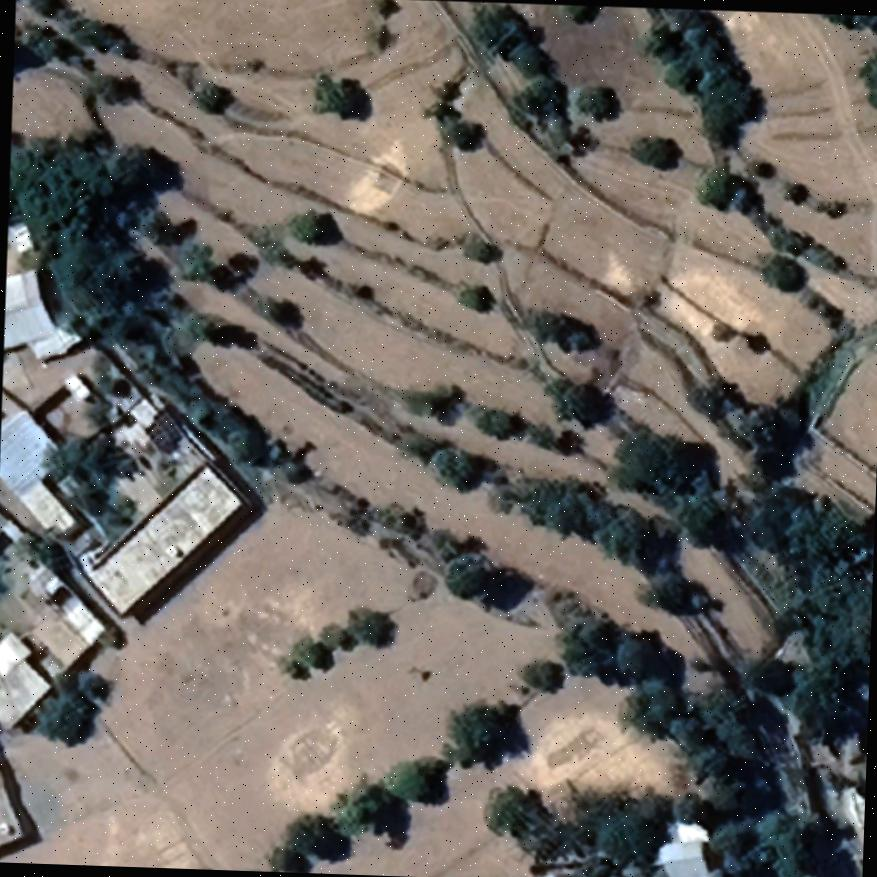Solarpanel: (139, 405, 187, 458)
